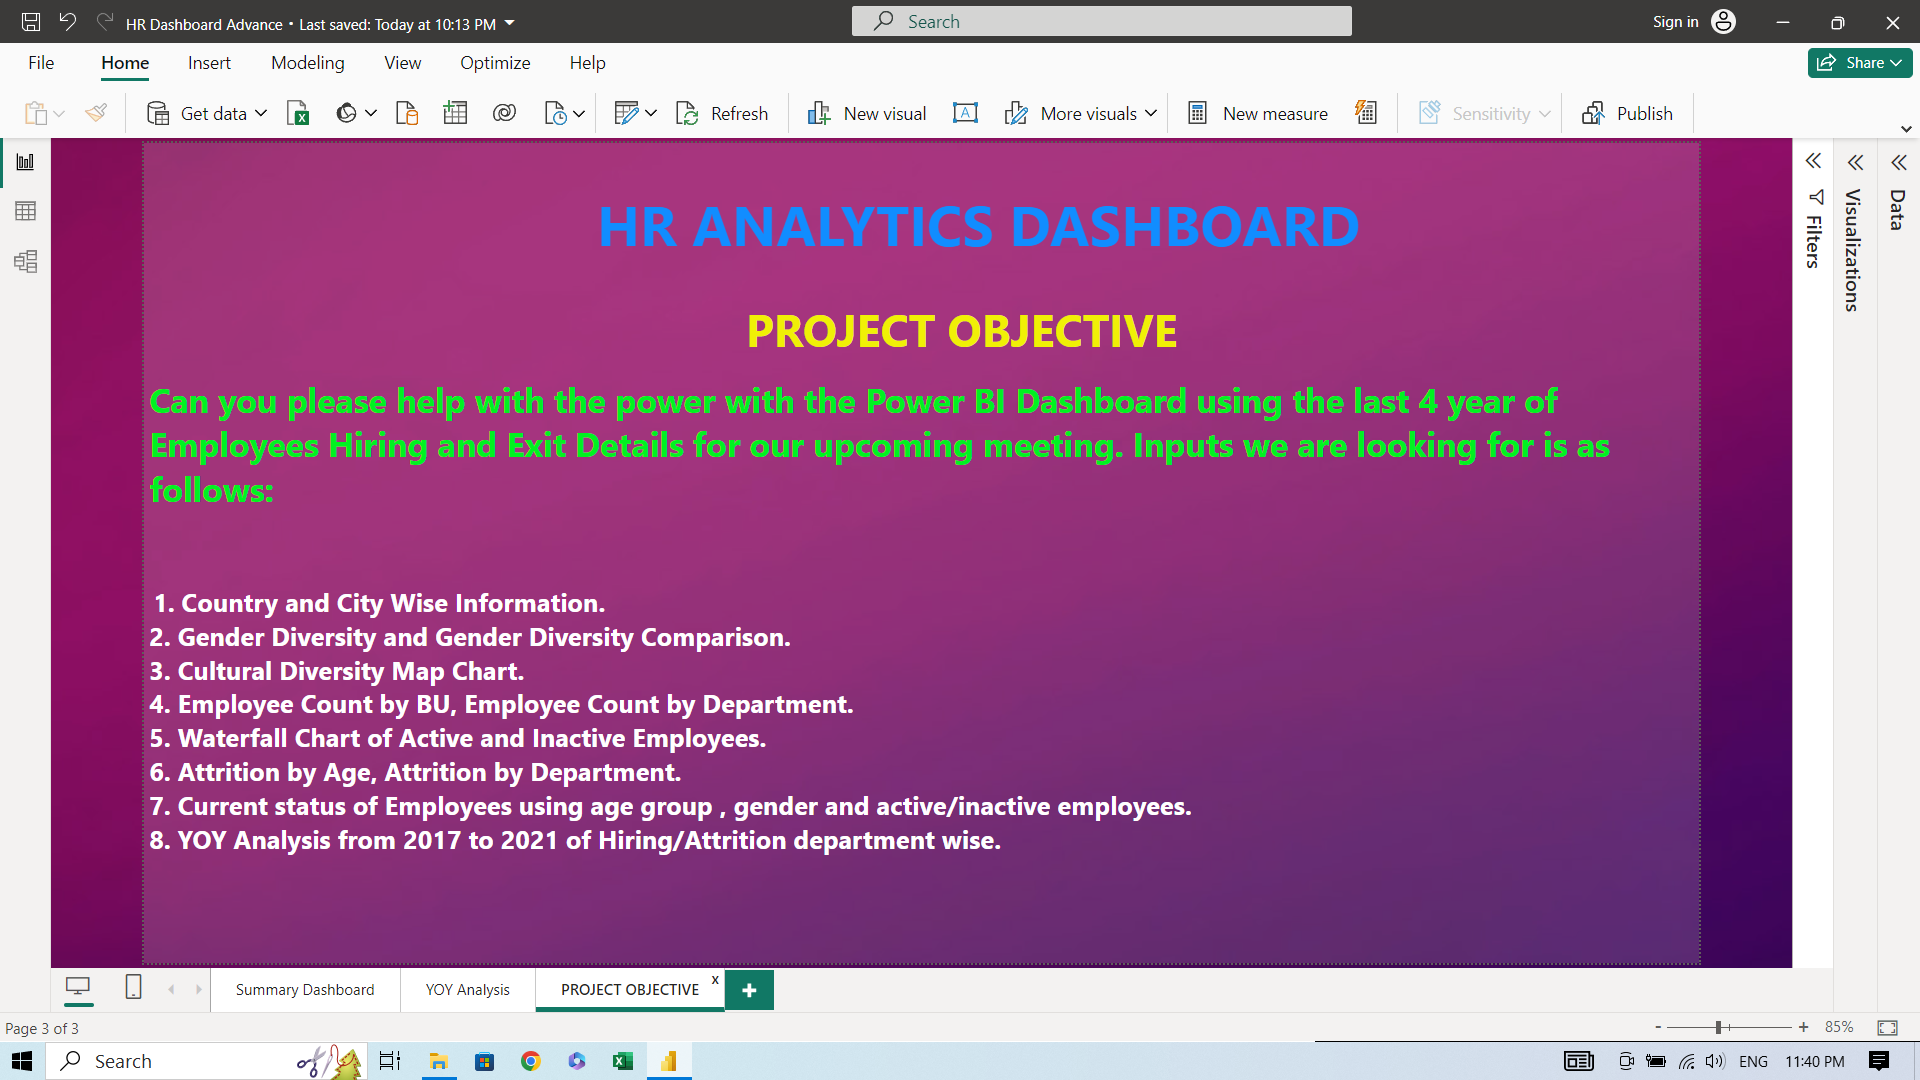

The dashboard page shown, as its layout file describes it:
{"tool":"powerbi","page":{"name":"PROJECT OBJECTIVE","canvas":[1473,777],"ordinal":2},"visuals":[{"type":"textbox","box":[0,0,1488.7,777.5],"z":1000}]}

Visuals, with their boxes on the page's 1473x777 design canvas (x1, y1, x2, y2). These are canvas units, not pixel positions in the 1920x1080 screenshot, which may show the page scaled, cropped or inside an application window:
textbox: 0:0:1489:778
